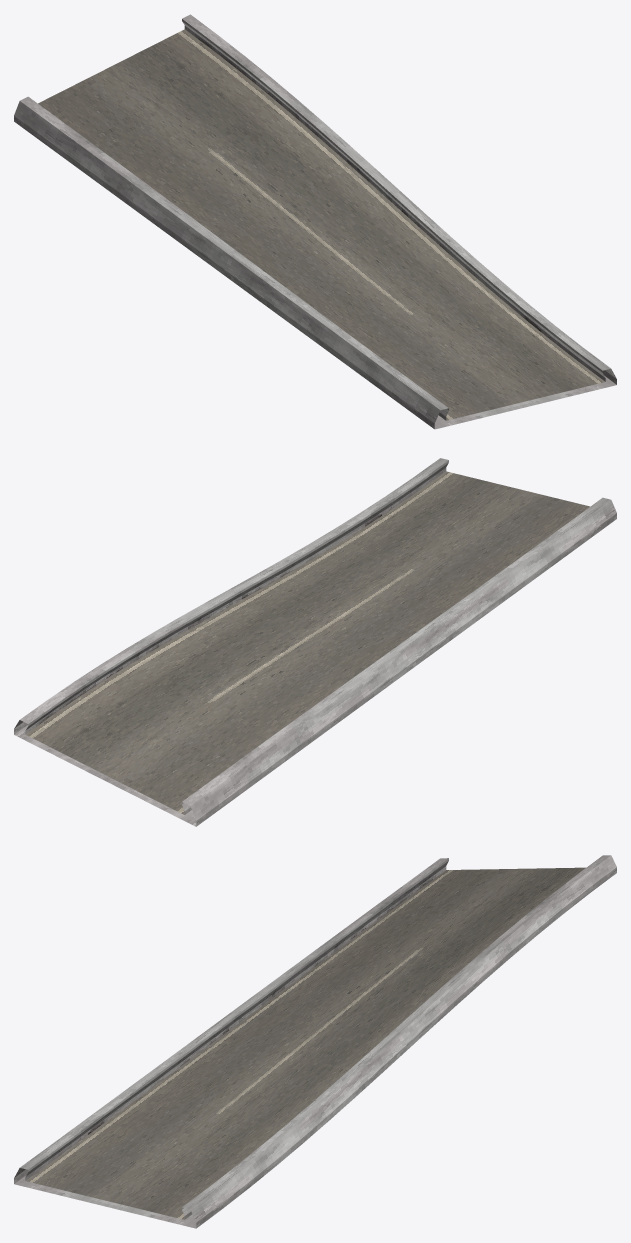
The model's file is straight4.glb.
3 renders of one model, top to bottom at view 1: azimuth 30°, elevation 25°; view 2: azimuth 150°, elevation 25°; view 3: azimuth 330°, elevation 25°, orthographic.
Parts seen in each view (by area): view 1: road-Straight-Flat-HalfBankedLeft-Even-Center-Size4; view 2: road-Straight-Flat-HalfBankedLeft-Even-Center-Size4; view 3: road-Straight-Flat-HalfBankedLeft-Even-Center-Size4.
Boxes of the visible parts, bbox=[...] form: road-Straight-Flat-HalfBankedLeft-Even-Center-Size4: bbox=[14, 14, 616, 429]; road-Straight-Flat-HalfBankedLeft-Even-Center-Size4: bbox=[14, 458, 616, 826]; road-Straight-Flat-HalfBankedLeft-Even-Center-Size4: bbox=[14, 855, 616, 1228].
Size of the model in its own units: 1 by 0.3359 by 4.
2 materials, 2 textured.
